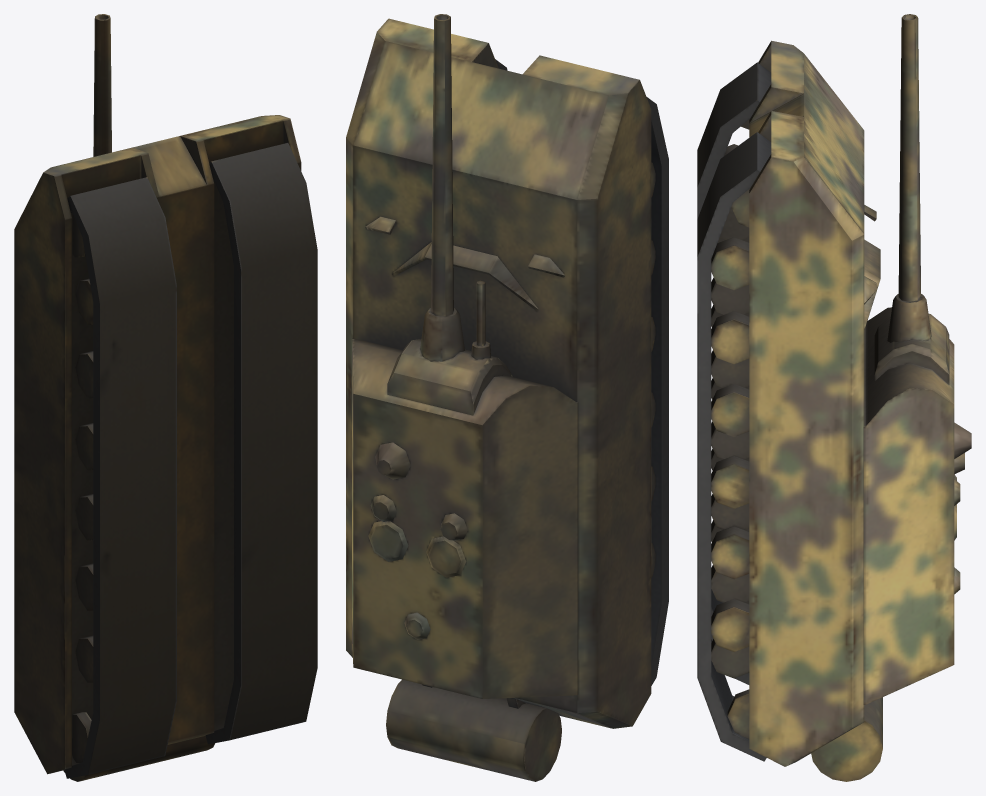
Rendered from Maus.fbx.
3 views of the same model, side by side, from view 1: azimuth 30°, elevation 25°; view 2: azimuth 150°, elevation 25°; view 3: azimuth 270°, elevation 25° (orthographic). The views are drawn at different scales.
Visible parts, largest first — view 1: Maus Body, Maus Turret; view 2: Maus Body, Maus Turret; view 3: Maus Body, Maus Turret.
Part boxes in pixels (box(x1,y1,x2,y2)): Maus Body: box(14, 115, 317, 781); Maus Turret: box(93, 14, 111, 156); Maus Body: box(346, 18, 668, 781); Maus Turret: box(352, 14, 578, 698); Maus Body: box(697, 40, 882, 781); Maus Turret: box(863, 14, 971, 704).
Size of the model in its own units: 138 by 404 by 137.
